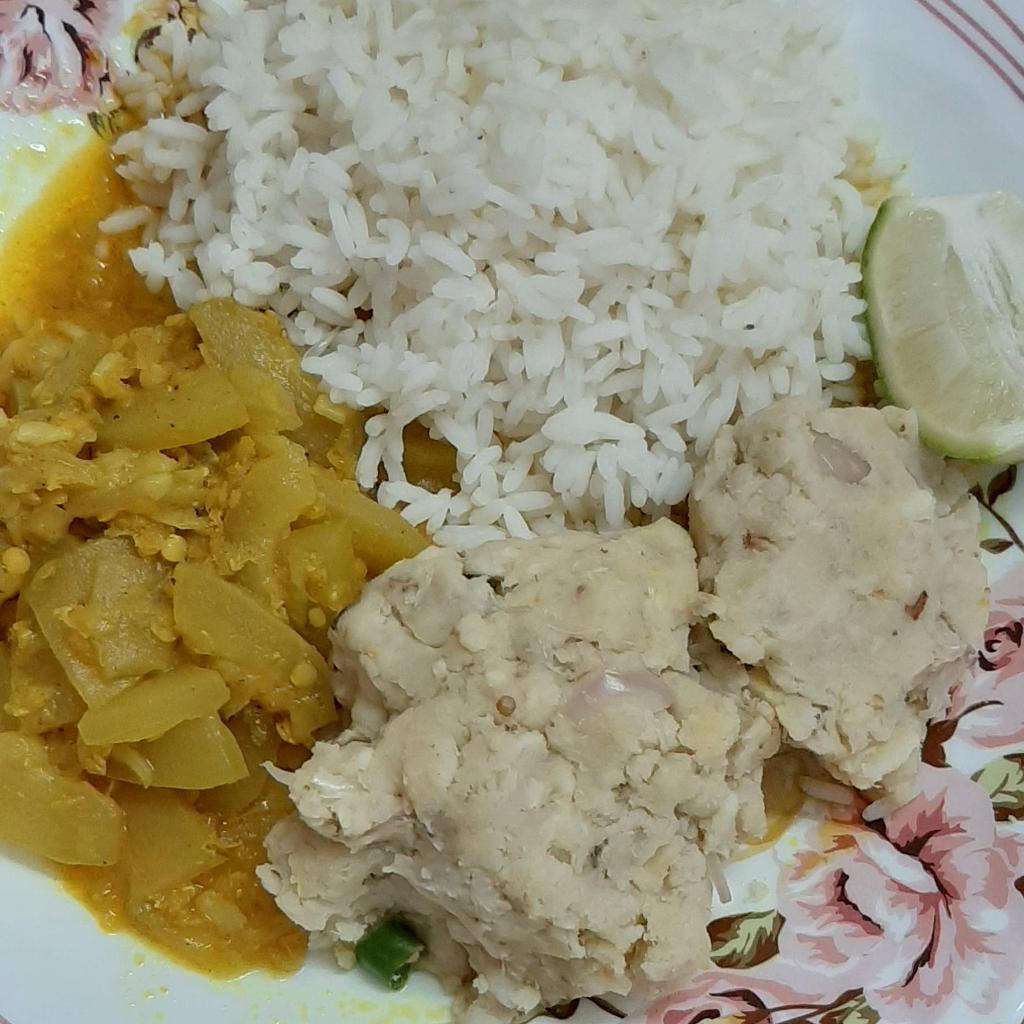lau: (0, 137, 402, 988)
lemon: (873, 189, 1023, 453)
potato-mashed: (264, 408, 986, 1013)
rice: (117, 1, 870, 528)
